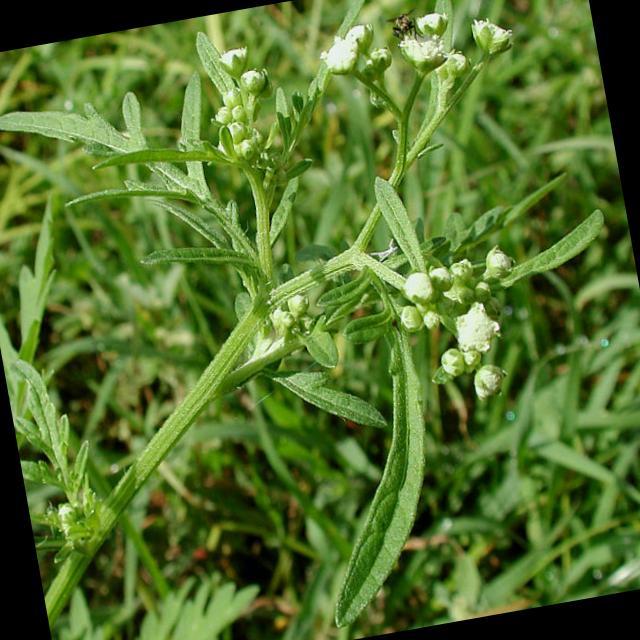Poisonous-Parthenium: (4, 0, 588, 555)
